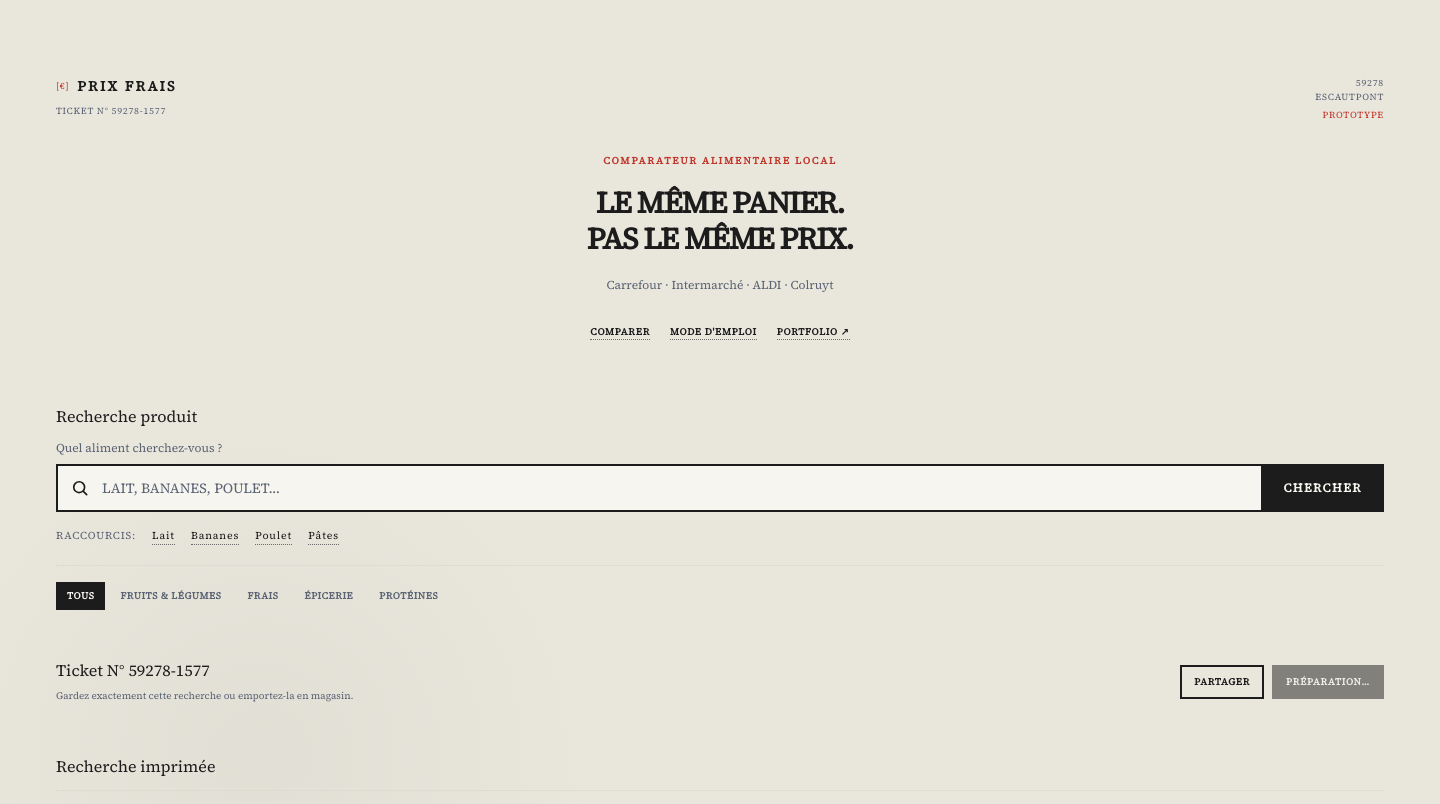
Test: comparateur de prix alimentaires › utilise le partage natif quand il est disponible
Click the button "Partager": (1222, 682) [1180,665,1264,700]
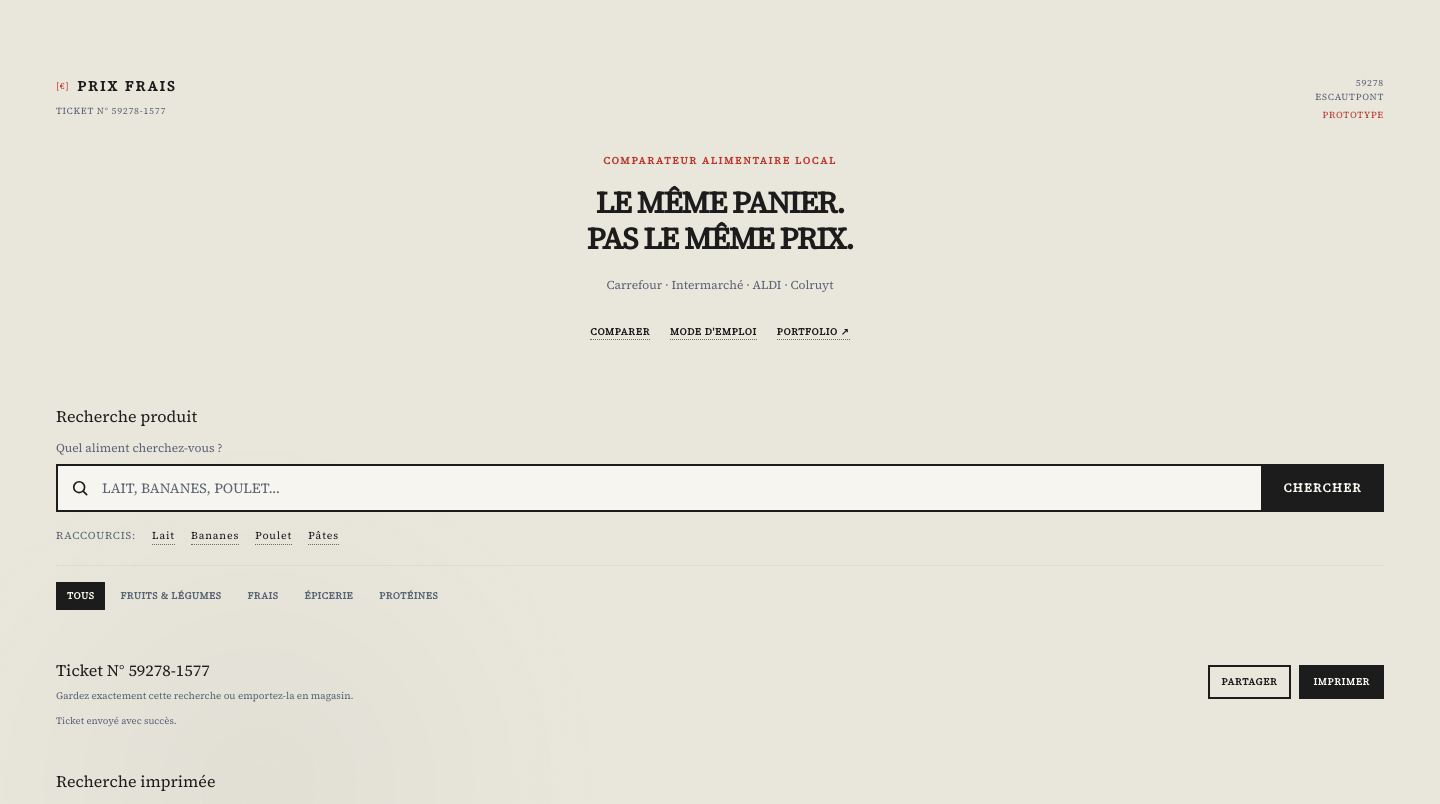
Now the text "Ticket envoyé avec succès." is shown, box [56,714,177,727]
